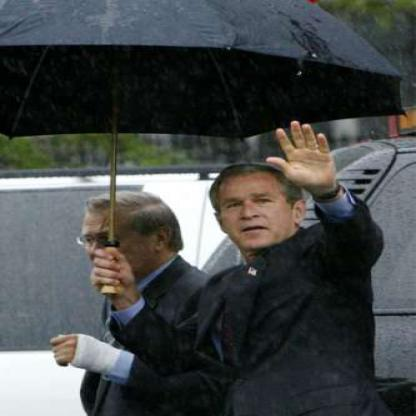face: (75, 198, 157, 285), (217, 164, 297, 251)
